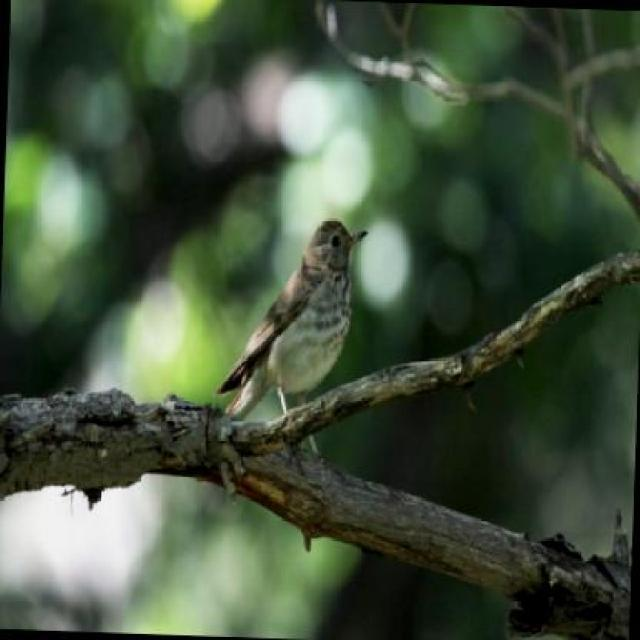Bird: (244, 206, 387, 453)
